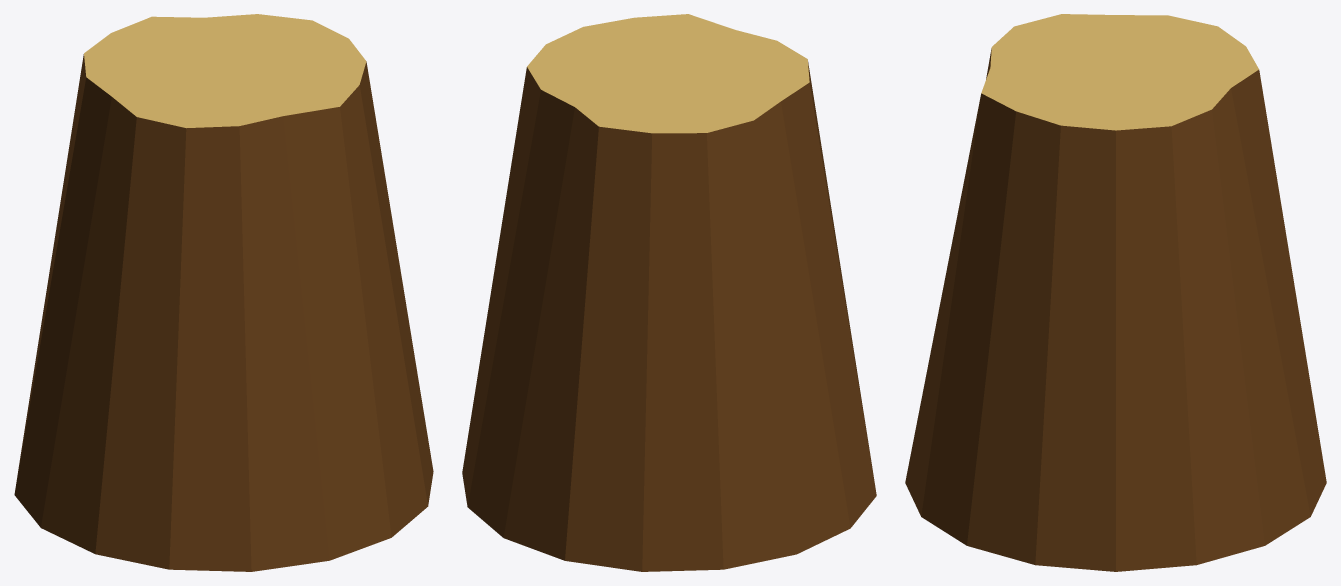
The picture shows the model from 3 angles, left to right: view 1: azimuth 30°, elevation 25°; view 2: azimuth 150°, elevation 25°; view 3: azimuth 270°, elevation 25°; orthographic projection.
Visible parts, largest first — view 1: red02.001; view 2: red02.001; view 3: red02.001.
Part boxes in pixels (box(x1,y1,x2,y2)): red02.001: box(14, 14, 433, 571); red02.001: box(462, 14, 876, 571); red02.001: box(905, 14, 1326, 571).
Bounding box in the file's own units: 0.2612 × 0.2824 × 0.2612.
